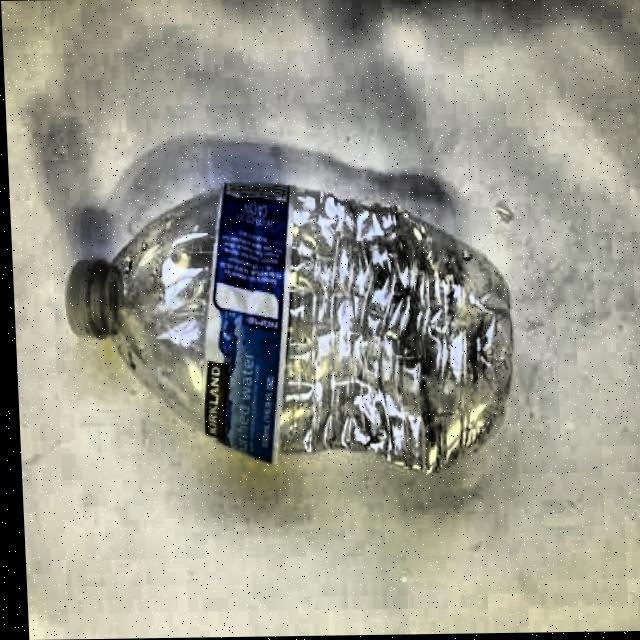plastic: (59, 170, 522, 491)
